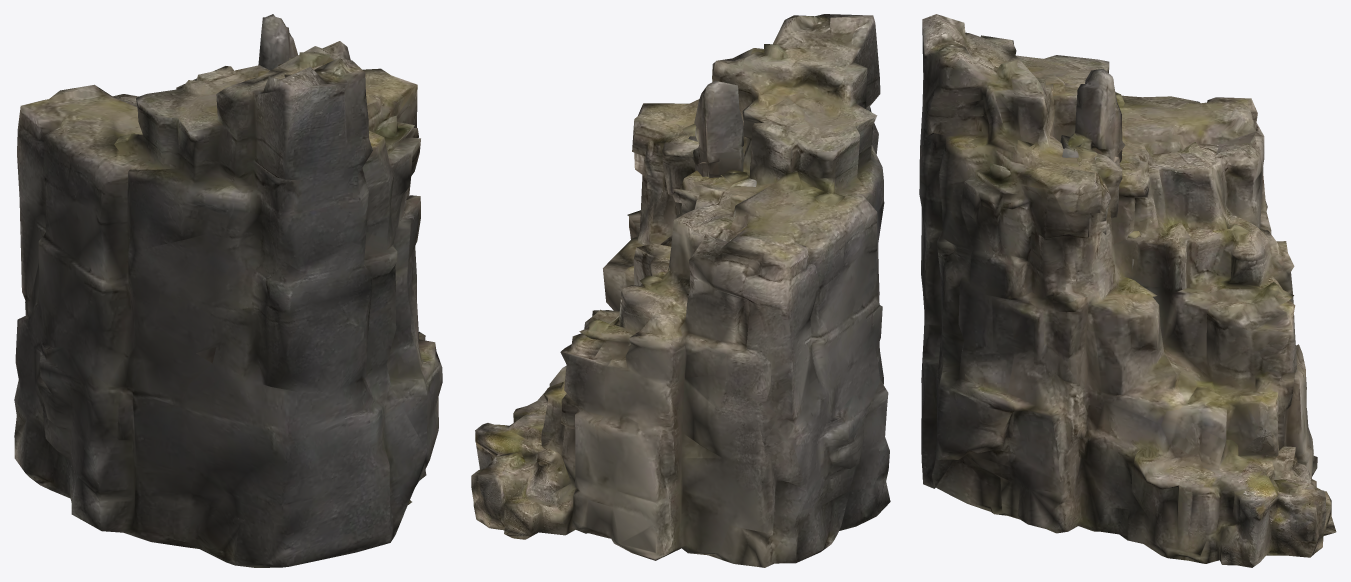
Rendered from cliffs.glb.
3 views of the same model, side by side, from view 1: azimuth 30°, elevation 25°; view 2: azimuth 150°, elevation 25°; view 3: azimuth 270°, elevation 25° (orthographic). The views are drawn at different scales.
Visible parts, largest first — view 1: cliff, spire; view 2: cliff, spire; view 3: cliff, spire.
Part boxes in pixels (left/top/right/bottom): cliff: left=14, top=41, right=442, bottom=567; spire: left=196, top=14, right=297, bottom=363; cliff: left=471, top=14, right=890, bottom=567; spire: left=688, top=80, right=756, bottom=186; cliff: left=919, top=14, right=1336, bottom=567; spire: left=1060, top=68, right=1140, bottom=271.
Bounding box in the file's own units: 0.54 × 0.6544 × 0.568.
Materials: 1 (1 with a texture image).
